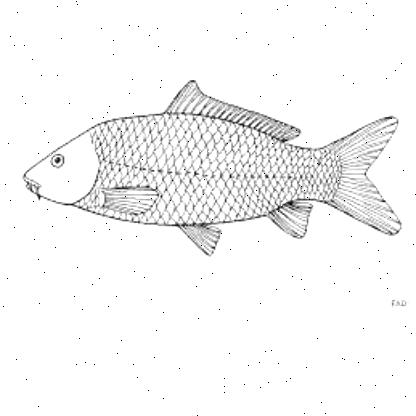ikan-mas: (17, 97, 404, 239)
